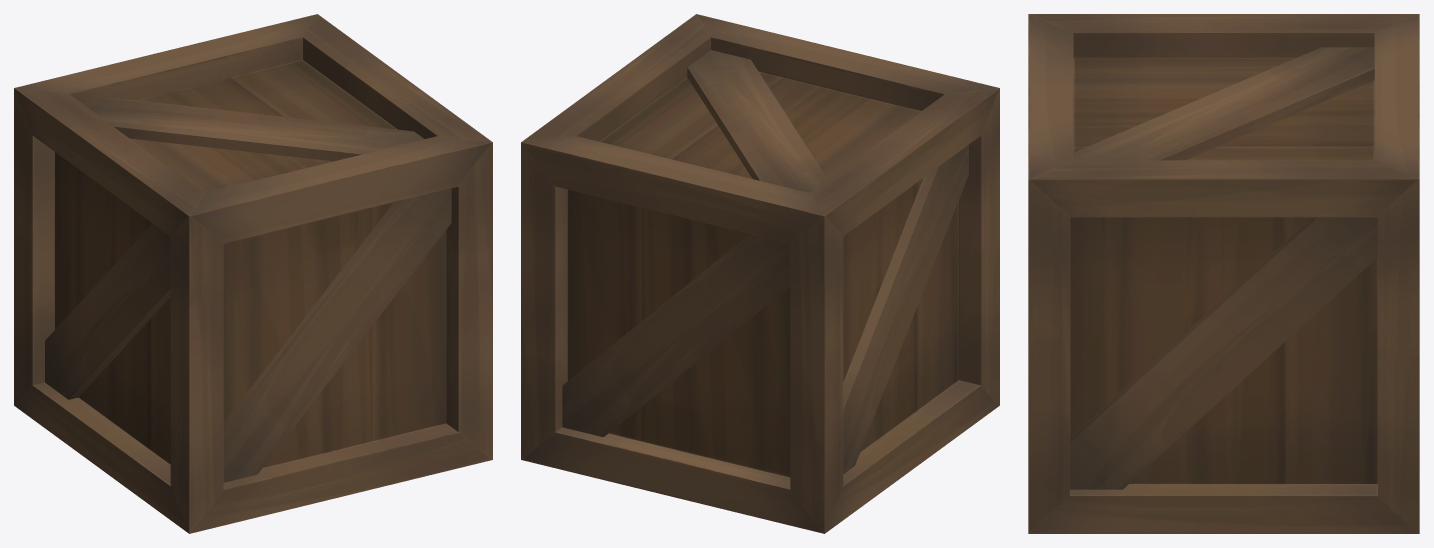
The model's file is WoodenCrate_SM.fbx.
The picture shows the model from 3 angles, left to right: view 1: azimuth 30°, elevation 25°; view 2: azimuth 150°, elevation 25°; view 3: azimuth 270°, elevation 25°; orthographic projection. The views are drawn at different scales.
Visible parts, largest first — view 1: pCube13; view 2: pCube13; view 3: pCube13.
Boxes of the visible parts, x1,y1,x2,y2 form: pCube13: [14, 14, 492, 533]; pCube13: [521, 14, 999, 533]; pCube13: [1028, 14, 1419, 533].
Bounding box in the file's own units: 118 × 118 × 118.
